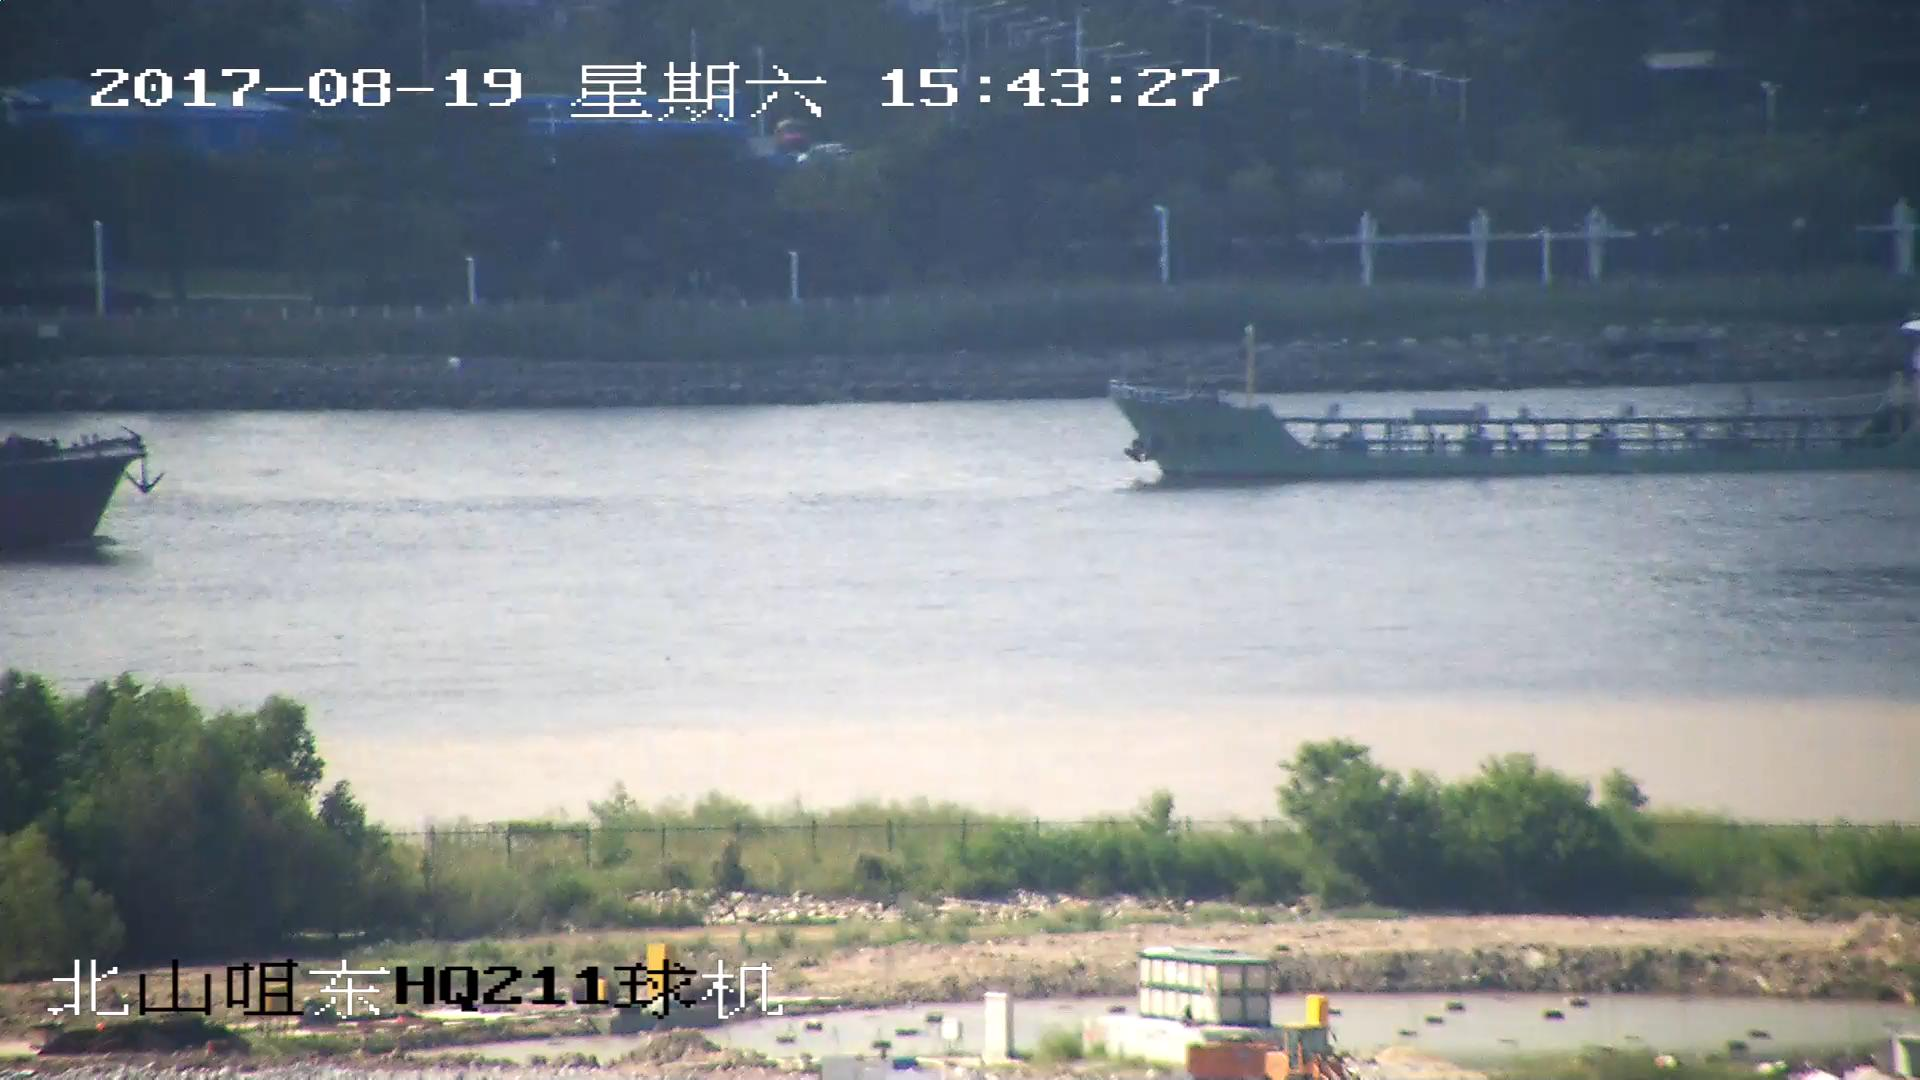bulk cargo carrier: (1, 430, 157, 544)
general cargo ship: (1111, 330, 1920, 482)
